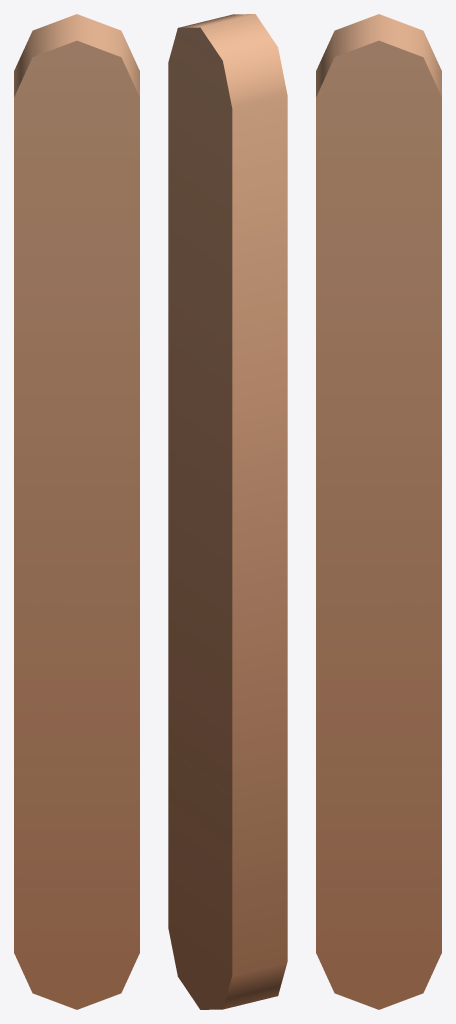
File: kenney-food-popsicle-stick.glb
The picture shows the model from 3 angles, left to right: view 1: azimuth 90°, elevation 25°; view 2: azimuth 210°, elevation 25°; view 3: azimuth 270°, elevation 25°; orthographic projection.
Parts seen in each view (by area): view 1: popsicle-stick; view 2: popsicle-stick; view 3: popsicle-stick.
Part boxes in pixels (x1,y1,x2,y2): popsicle-stick: (14, 14, 139, 1009); popsicle-stick: (168, 14, 287, 1009); popsicle-stick: (316, 14, 441, 1009).
Size of the model in its own units: 0.02 by 0.34 by 0.04.
1 material, 1 textured.
